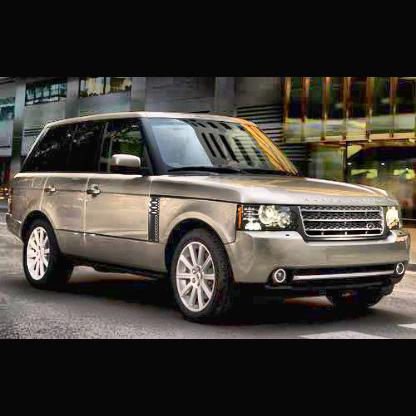Land Rover Range Rover SUV 2012: (6, 112, 411, 323)
